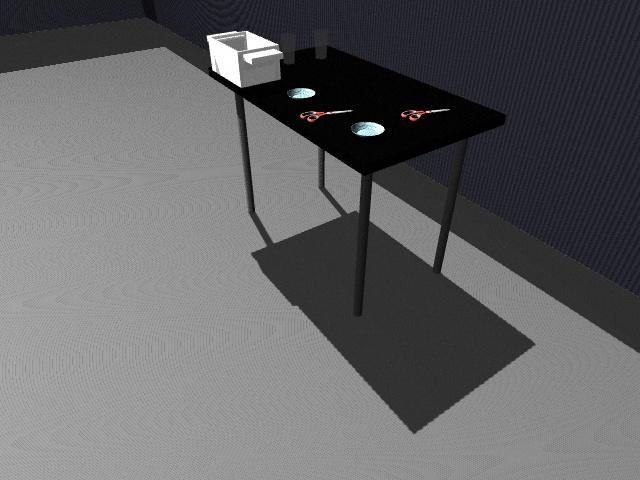cup: (280, 32, 296, 65), (313, 28, 329, 59)
plate: (350, 121, 387, 137), (286, 87, 319, 100)
scissors: (300, 108, 353, 122), (402, 108, 450, 121)
